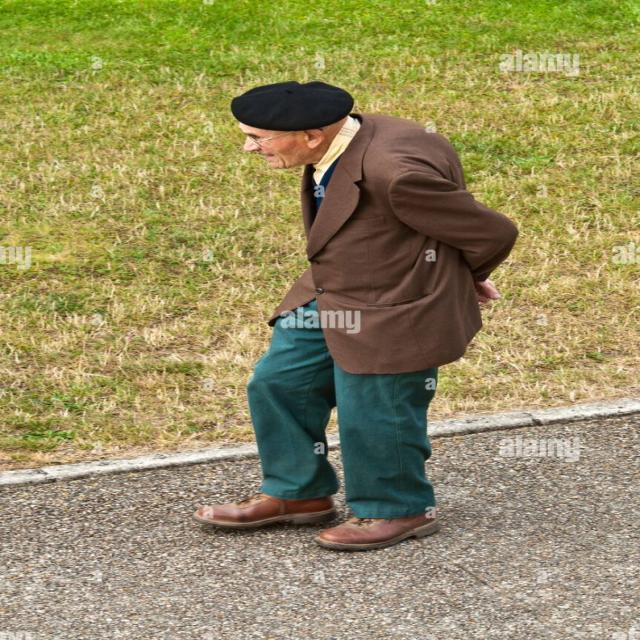idoso em pe: (215, 81, 505, 560)
